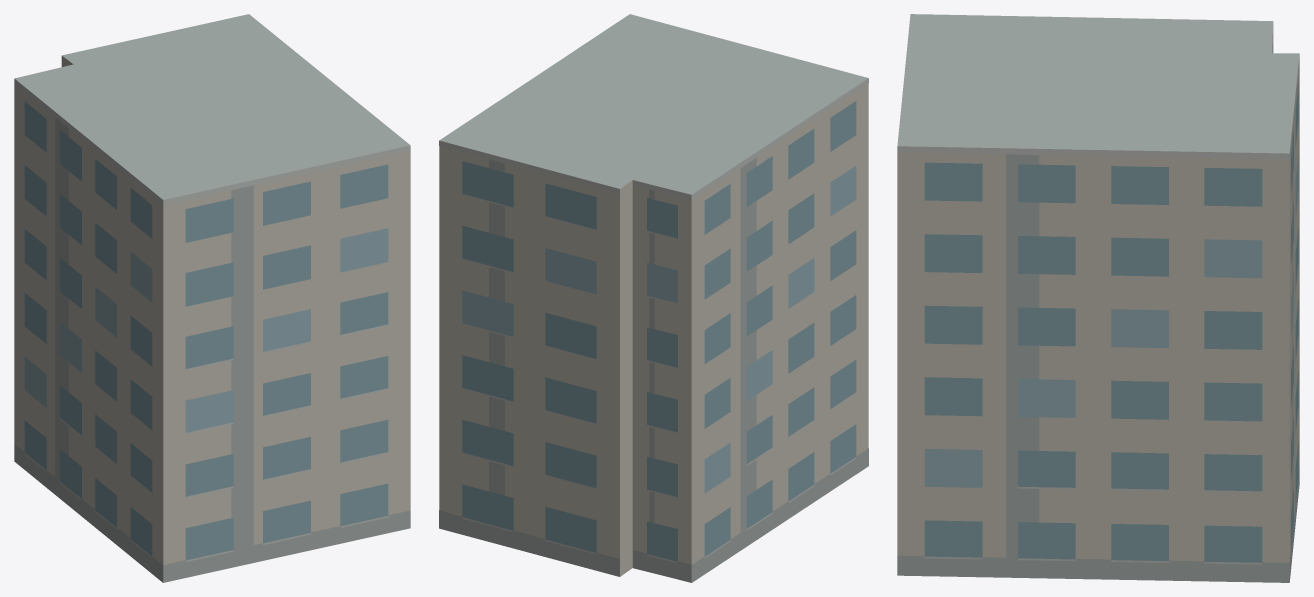
The model's file is survey-upis-32765332.glb.
3 renders of one model, left to right at view 1: azimuth 30°, elevation 25°; view 2: azimuth 150°, elevation 25°; view 3: azimuth 270°, elevation 25°, orthographic. The views are drawn at different scales.
Visible parts, largest first — view 1: survey-upis-32765332.tmp; view 2: survey-upis-32765332.tmp; view 3: survey-upis-32765332.tmp.
Part boxes in pixels (x1,y1,x2,y2): survey-upis-32765332.tmp: [14, 14, 410, 582]; survey-upis-32765332.tmp: [439, 14, 868, 582]; survey-upis-32765332.tmp: [897, 14, 1299, 582].
Bounding box in the file's own units: 12.06 × 17.3 × 14.7.
